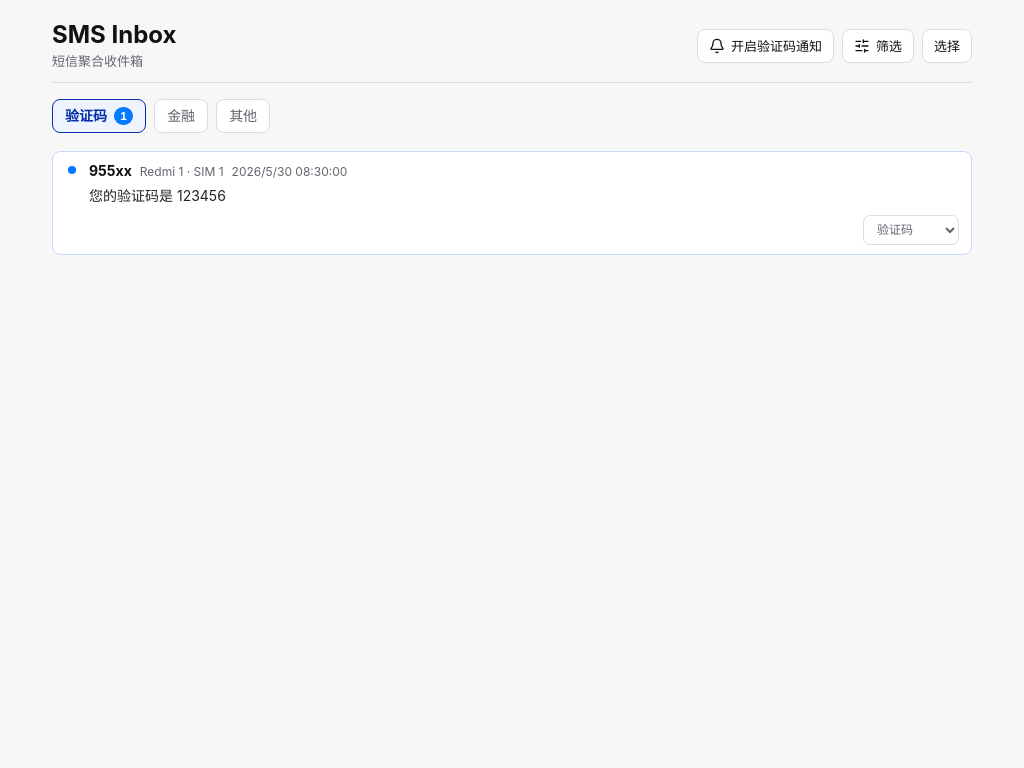
InboxApp › shows an error and refreshes when marking a detail message read fails
The width and height of the screenshot is (1024, 768).
Expected: the text "您的验证码是 123456" is shown, [89,187,226,204]
Click the button with aria-label "短信 955xx": [110, 171] box [89,162,347,204]
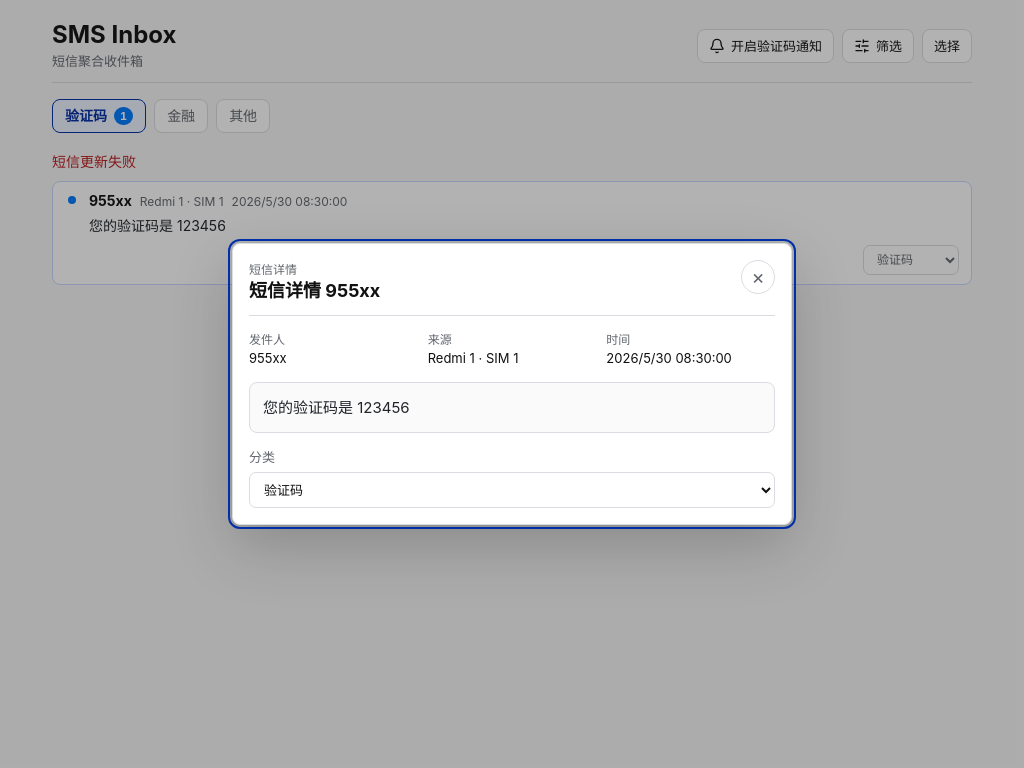
Expected: the text "短信更新失败" is shown, [52,153,136,170]
Expected: the dialog "短信详情 955xx" is shown, [232,243,792,525]
